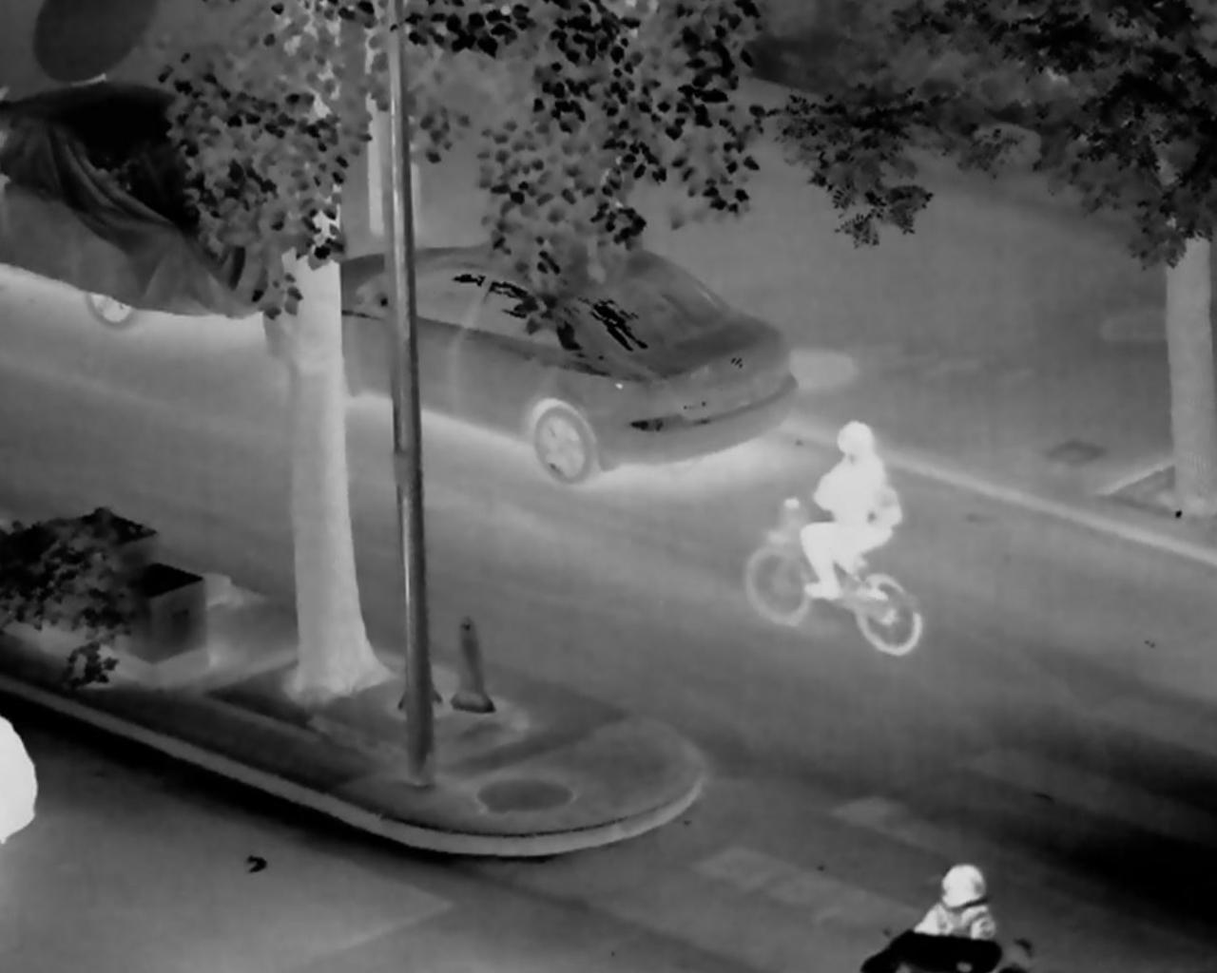person: (797, 421, 899, 600), (899, 860, 993, 973)
